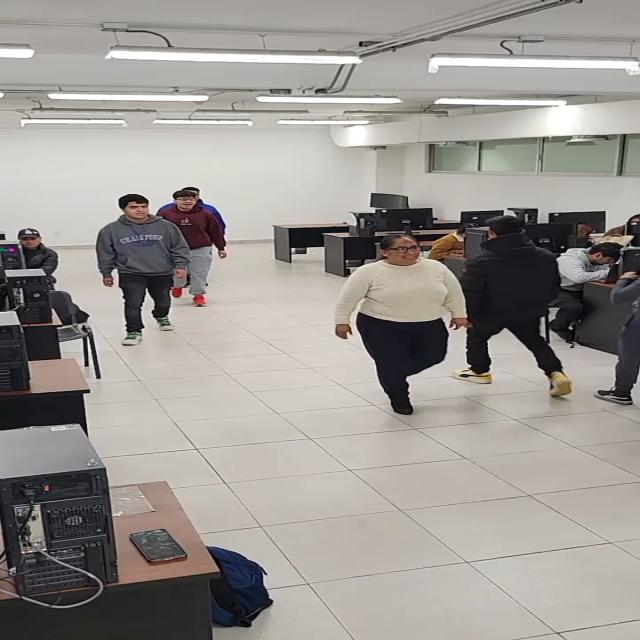Persona: (340, 230, 484, 424), (462, 217, 594, 416), (97, 194, 172, 332), (162, 188, 215, 308)
